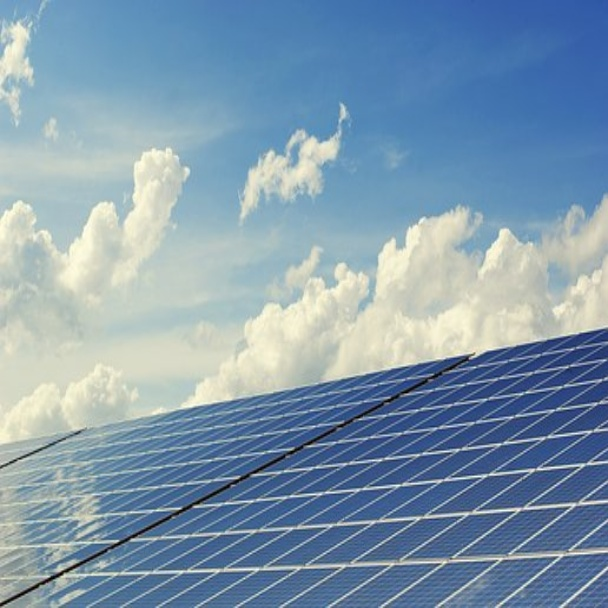solarpanels: (1, 321, 608, 608)
